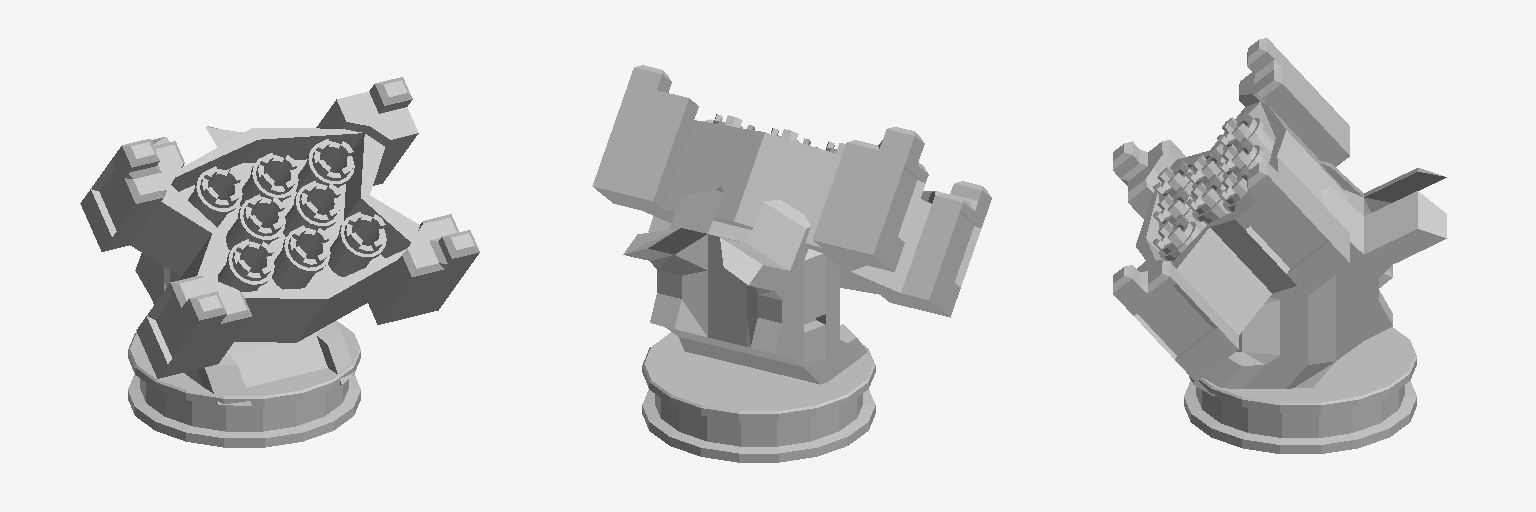
The model's file is MortarPod.obj.
3 views of the same model, side by side, from view 1: azimuth 30°, elevation 25°; view 2: azimuth 150°, elevation 25°; view 3: azimuth 270°, elevation 25° (orthographic).
Size of the model in its own units: 5.97 by 6.11 by 6.16.